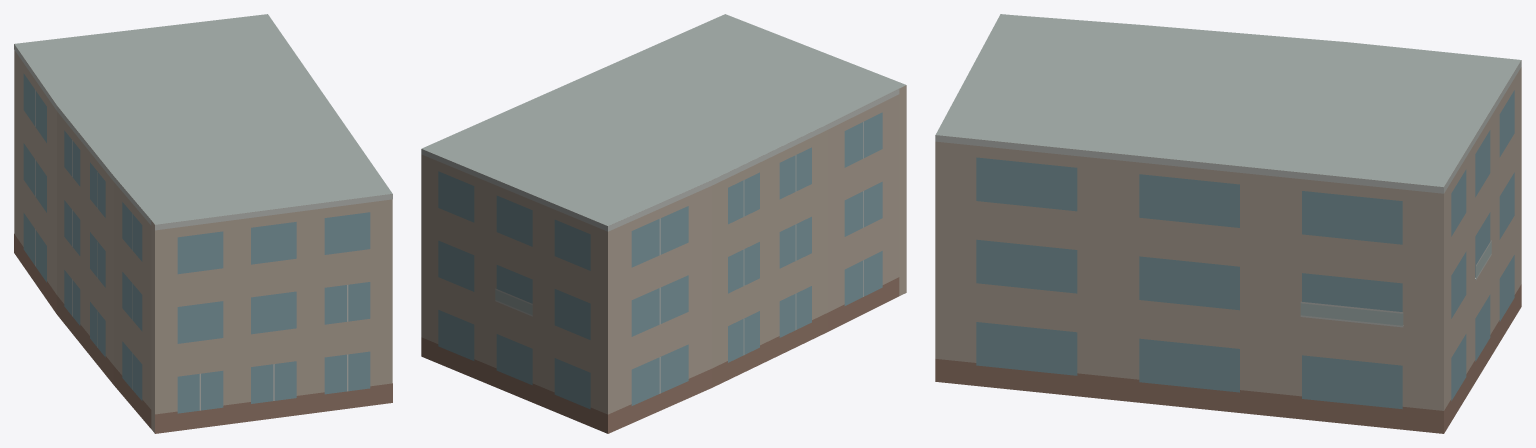
Rendered from survey-upis-33027252.glb.
The picture shows the model from 3 angles, left to right: view 1: azimuth 30°, elevation 25°; view 2: azimuth 150°, elevation 25°; view 3: azimuth 270°, elevation 25°; orthographic projection. The views are drawn at different scales.
Parts seen in each view (by area): view 1: survey-upis-33027252.tmp; view 2: survey-upis-33027252.tmp; view 3: survey-upis-33027252.tmp.
Boxes of the visible parts, box(x1,y1,x2,y2) form: survey-upis-33027252.tmp: box(14, 14, 392, 433); survey-upis-33027252.tmp: box(421, 14, 906, 433); survey-upis-33027252.tmp: box(935, 14, 1521, 433).
Bounding box in the file's own units: 13.78 × 9.15 × 19.71.
